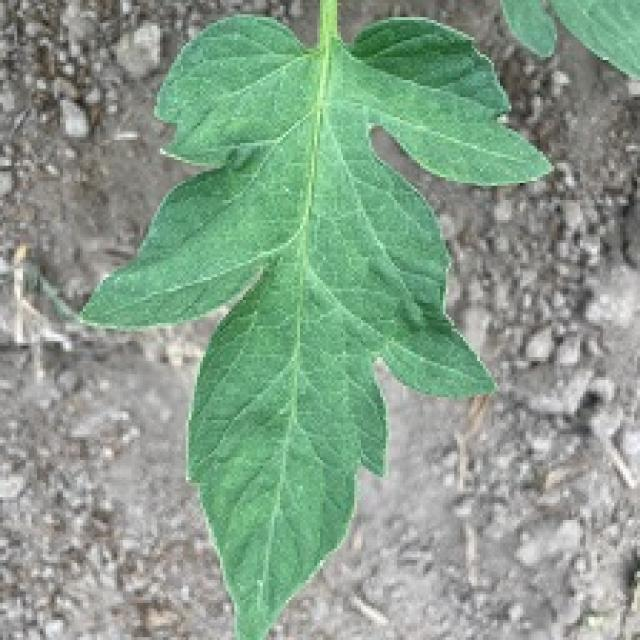Healthy: (0, 0, 600, 640)
